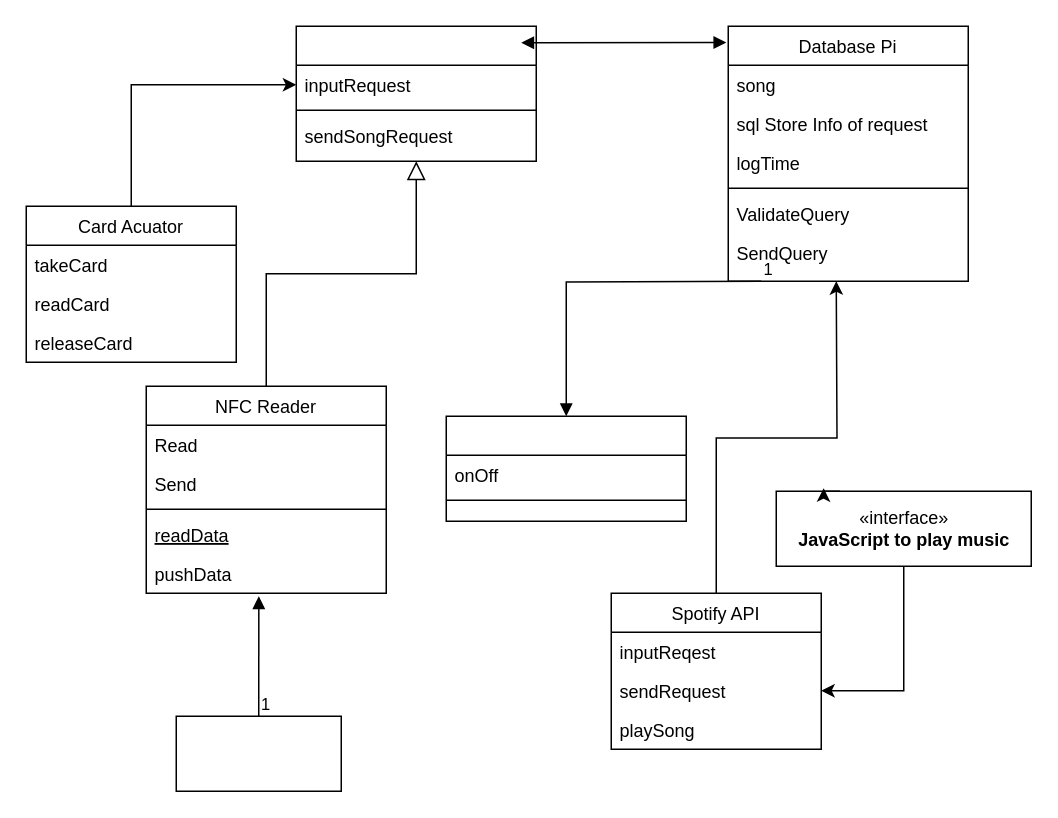
This 1058x818 diagram has some shape labels left out. The box of each missing label's shape, as (x1, y1, x2, y2) in pixels:
Juke Box Pi: (295, 25, 536, 161)
NFC Card Record: (175, 715, 341, 791)
Speaker: (445, 415, 686, 521)
